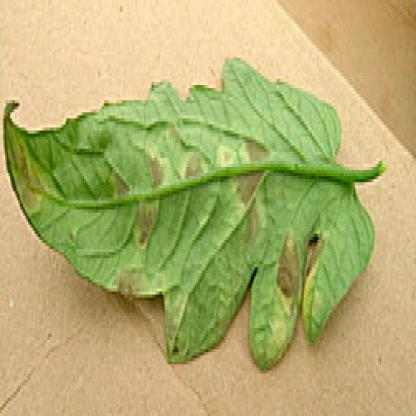tomato mold leaf: (5, 61, 398, 377)
